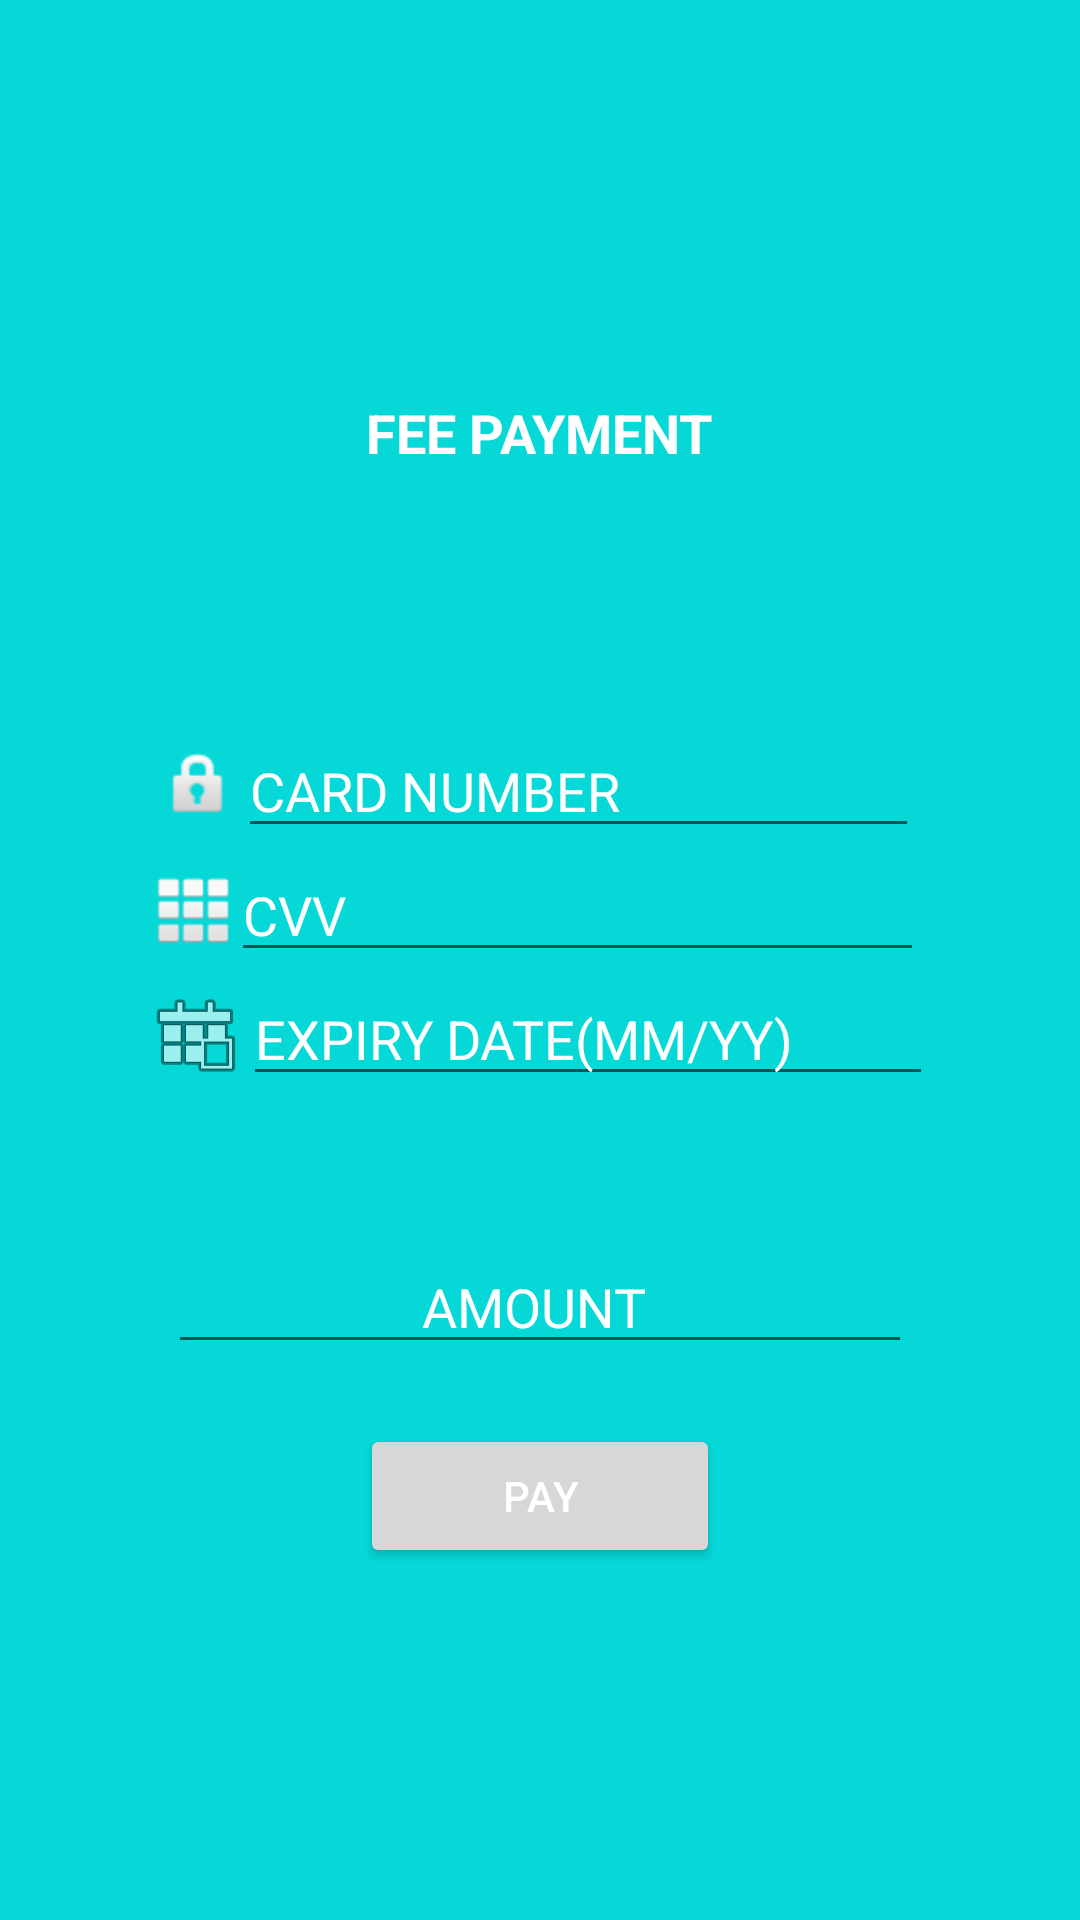

Point at icon controls on the screen. Image size 1080 x 1920, points as point (x, y).
dialer: point (193, 910)
lock idle: point (197, 783)
today: point (196, 1035)
